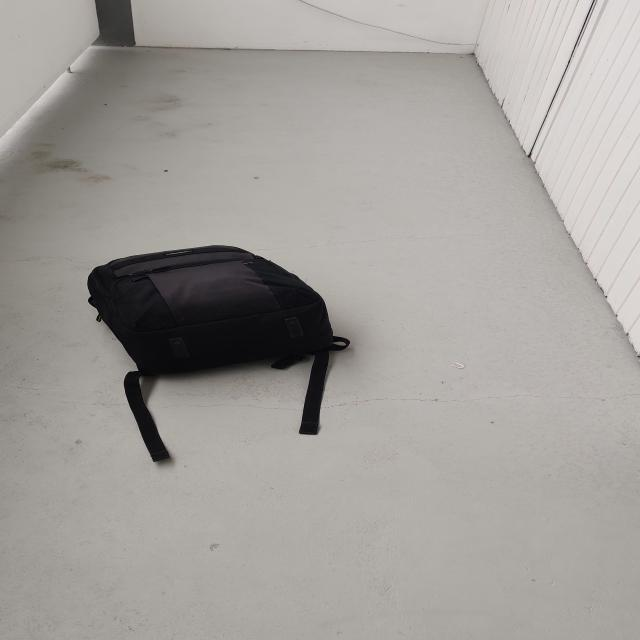backpack: (76, 240, 344, 383)
